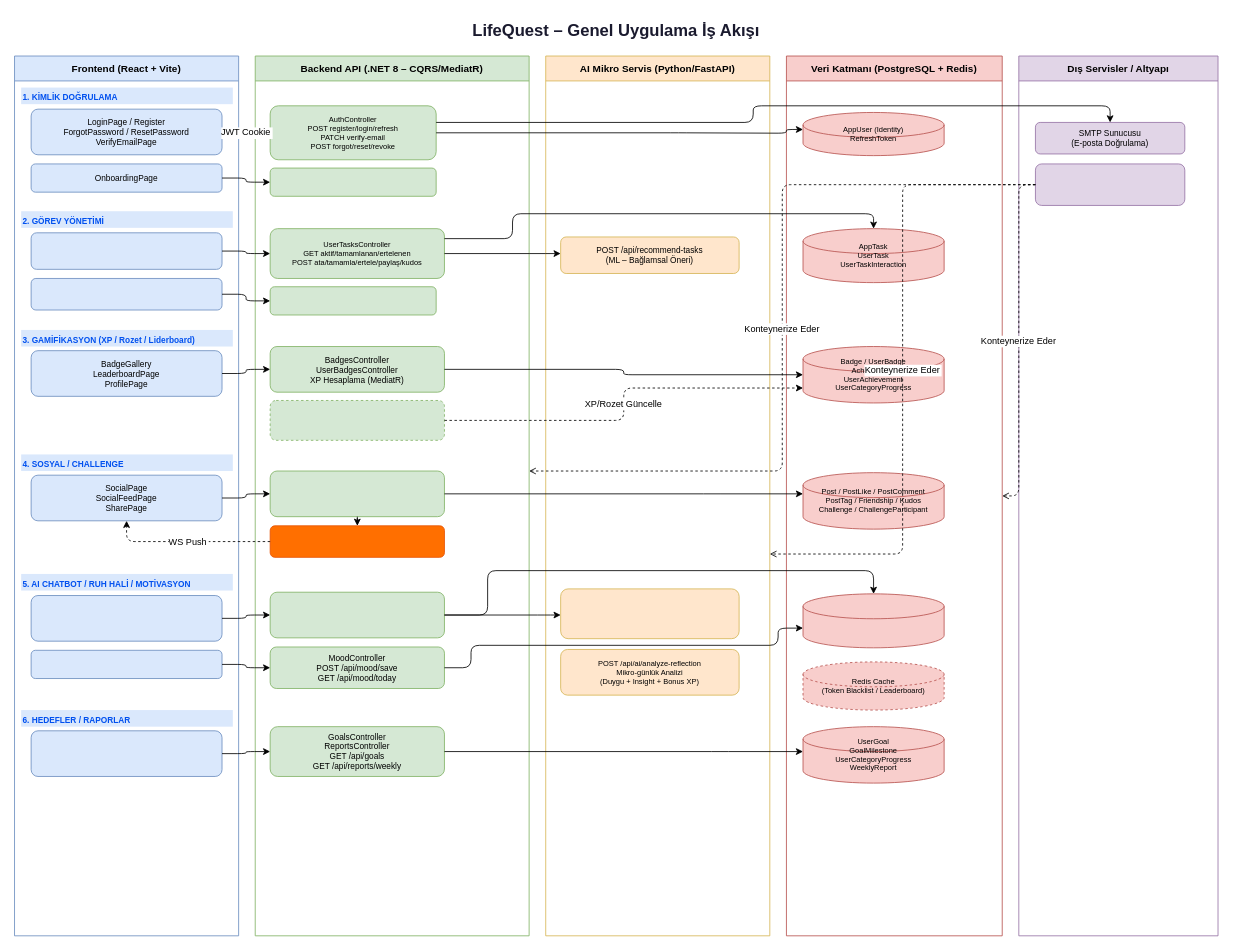
This 1233x950 diagram has some shape labels left out. Each missing label, with the centre of its shape:
Arka Plan Servisleri DailyQuestWorker WeeklyReportWorker: the point at 356,420
ChatBot – Görev Akışı (state machine): the point at 126,294
ChatBotFlow.jsx ChatBotCards.jsx (State Machine – chatFlows): the point at 126,618
ChatBotMessage UserDailyMood WeeklyReport: the point at 873,620
ChatController POST /api/chat/send POST /api/chat/action: the point at 356,614
Docker Compose (API + AI + PostgreSQL + Redis): the point at 1110,184
GoalsPage ReportsPage DashBoard: the point at 126,753
NotificationHub (SignalR – /hubs/notification): the point at 356,541
OnboardingController POST /api/onboarding: the point at 352,181
POST /api/chat Intent + Sentiment + Urgency Kişilik Motoru (scikit-learn): the point at 649,613
Ruh Hali Seçim Ekranı: the point at 126,664
SocialController PostsController Arkadaşlık / Kudos / Challenge: the point at 356,493
TaskList / TaskPoolPage DailyTaskPage: the point at 126,250
TasksController GET /api/tasks/pool: the point at 352,300
